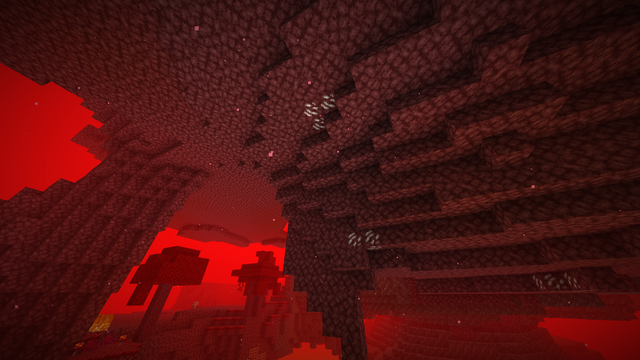quartz: (301, 92, 337, 133), (531, 272, 582, 295), (346, 229, 380, 251)
